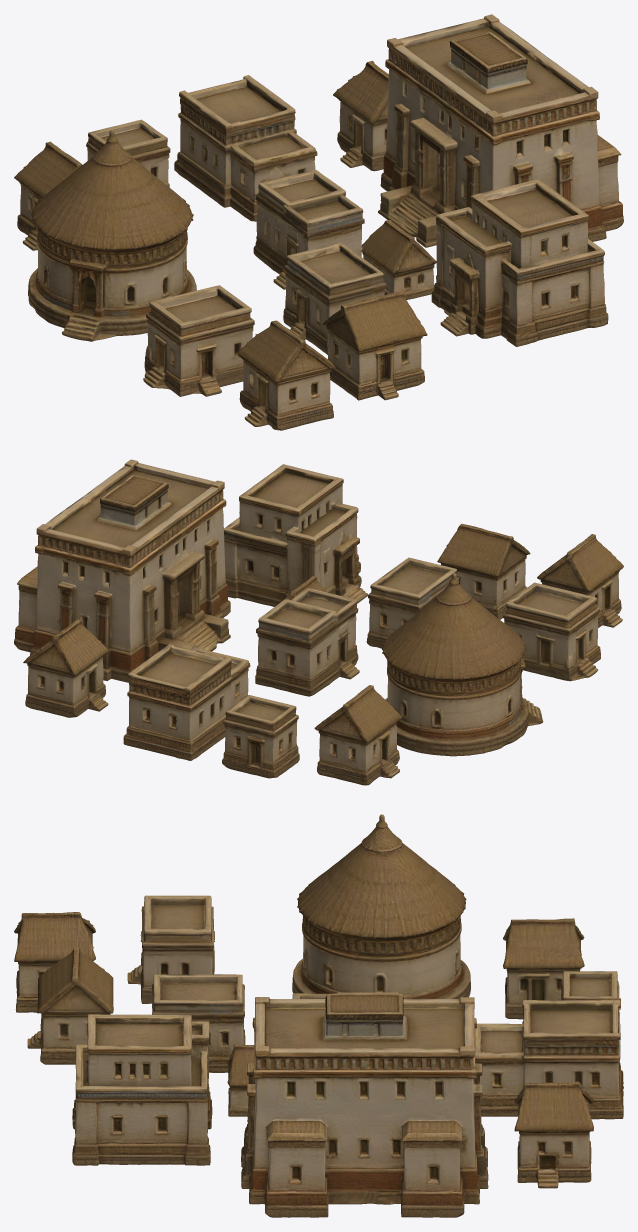
The model's file is Enlightenment Village (East African).fbx.
The picture shows the model from 3 angles, top to bottom: view 1: azimuth 30°, elevation 25°; view 2: azimuth 150°, elevation 25°; view 3: azimuth 270°, elevation 25°; orthographic projection. The views are drawn at different scales.
Parts seen in each view (by area): view 1: tripo_node_6e4fd615; view 2: tripo_node_6e4fd615; view 3: tripo_node_6e4fd615.
Part boxes in pixels (x1=…): tripo_node_6e4fd615: x1=14, y1=14, x2=623, y2=430; tripo_node_6e4fd615: x1=14, y1=459, x2=623, y2=785; tripo_node_6e4fd615: x1=14, y1=814, x2=623, y2=1217.
Bounding box in the file's own units: 1 × 0.3061 × 0.9603.
